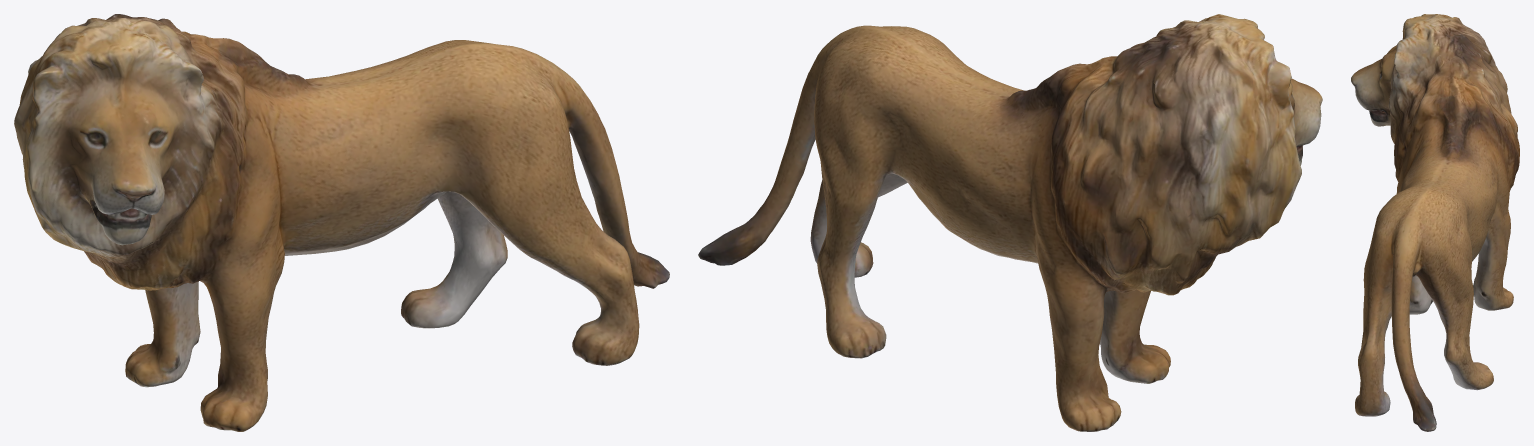
The model's file is Schleich_Lion_Action_Figure.glb.
The picture shows the model from 3 angles, left to right: view 1: azimuth 30°, elevation 25°; view 2: azimuth 150°, elevation 25°; view 3: azimuth 270°, elevation 25°; orthographic projection. The views are drawn at different scales.
Visible parts, largest first — view 1: model.obj; view 2: model.obj; view 3: model.obj.
Part boxes in pixels (<box>): model.obj: <box>14,14,669,431</box>; model.obj: <box>698,14,1322,431</box>; model.obj: <box>1351,14,1519,431</box>.
Bounding box in the file's own units: 1 × 0.6125 × 0.3624.
Materials: 1 (1 with a texture image).
